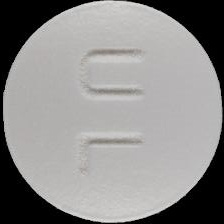29300-189: (0, 0, 224, 224)
